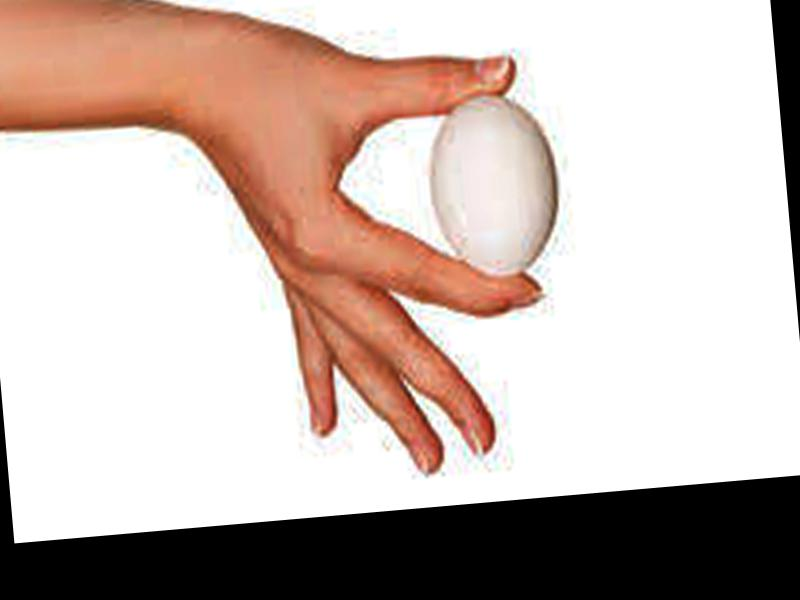Eggs: (423, 89, 567, 284)
